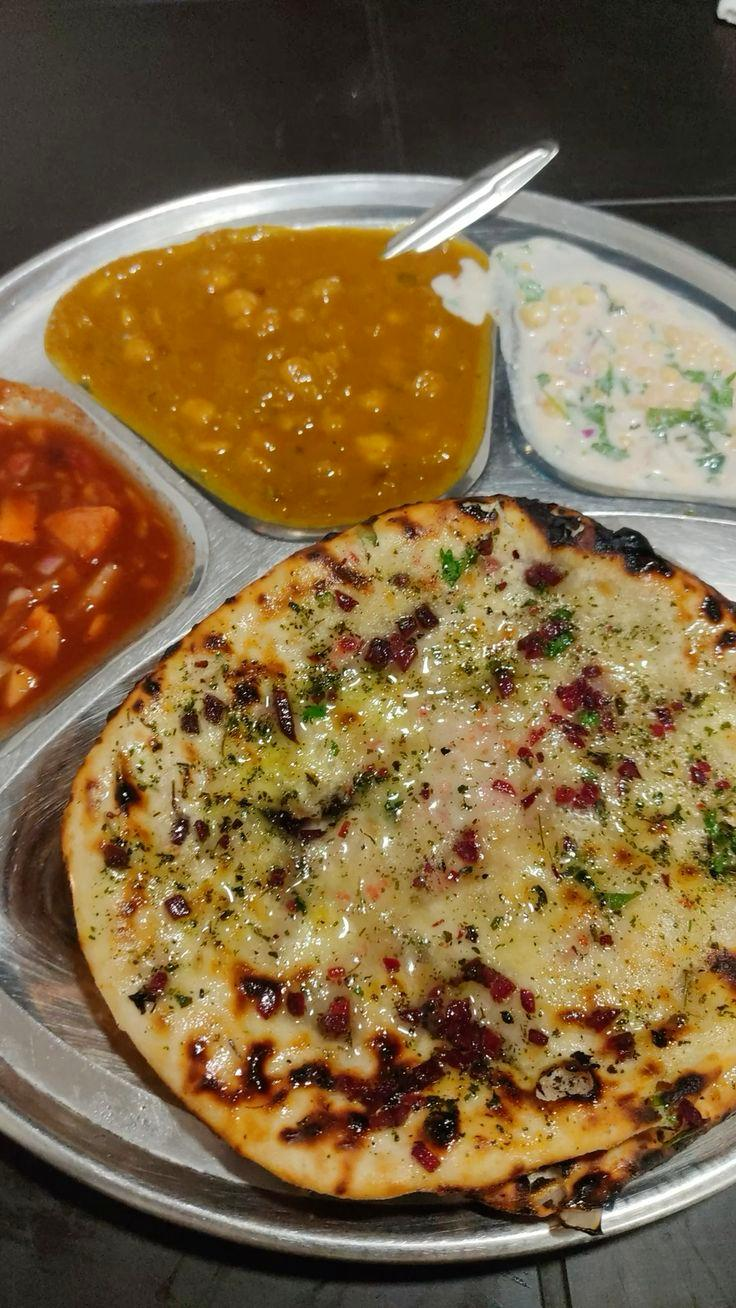chole: (117, 248, 479, 474)
yogurt: (537, 268, 736, 496)
